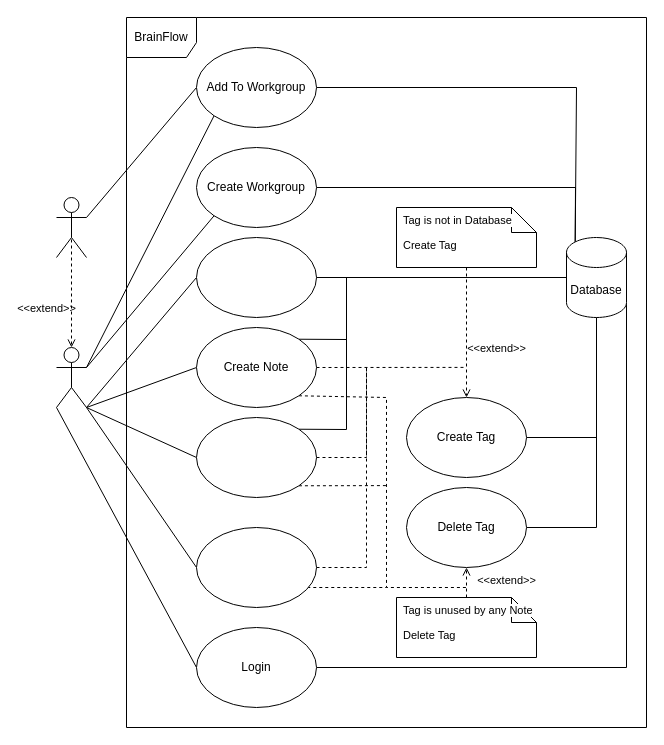
Some shapes in this 664 by 745 pixel diagram are drawn without their labels. Here are the shapes that lost their labels. From the top down, the centre of each, then its label:
At (x=71, y=227): "GroupAdministrator".
At (x=256, y=277): "View Notes".
At (x=71, y=377): "Developer".
At (x=256, y=457): "Edit Note".
At (x=256, y=567): "Delete Note".
